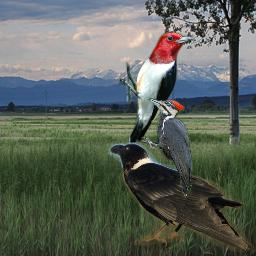Crow: (108, 140, 250, 252)
Woodpecker: (117, 32, 195, 156), (141, 97, 196, 198)
